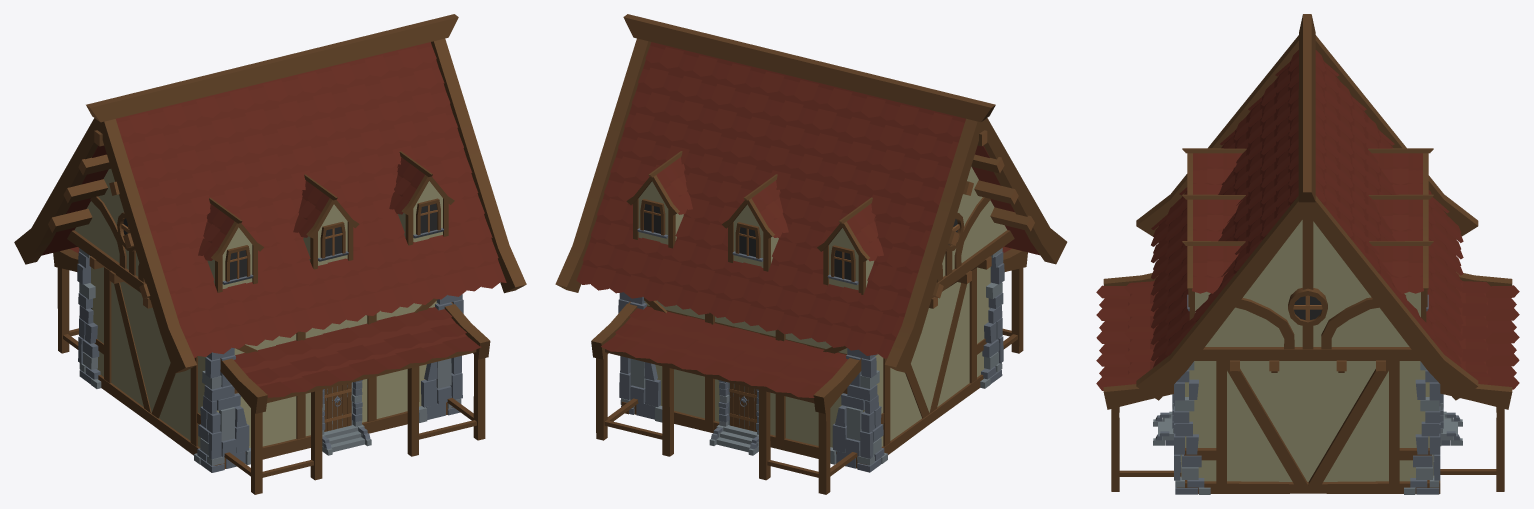
Rendered from Inn.gltf.
3 views of the same model, side by side, from view 1: azimuth 30°, elevation 25°; view 2: azimuth 150°, elevation 25°; view 3: azimuth 270°, elevation 25° (orthographic).
Visible parts, largest first — view 1: Inn_Cube.393; view 2: Inn_Cube.393; view 3: Inn_Cube.393.
Part boxes in pixels (x1,y1,x2,y2): Inn_Cube.393: [14, 14, 526, 494]; Inn_Cube.393: [555, 14, 1067, 494]; Inn_Cube.393: [1096, 14, 1519, 494].
Bounding box in the file's own units: 4.03 × 3.49 × 4.02.
